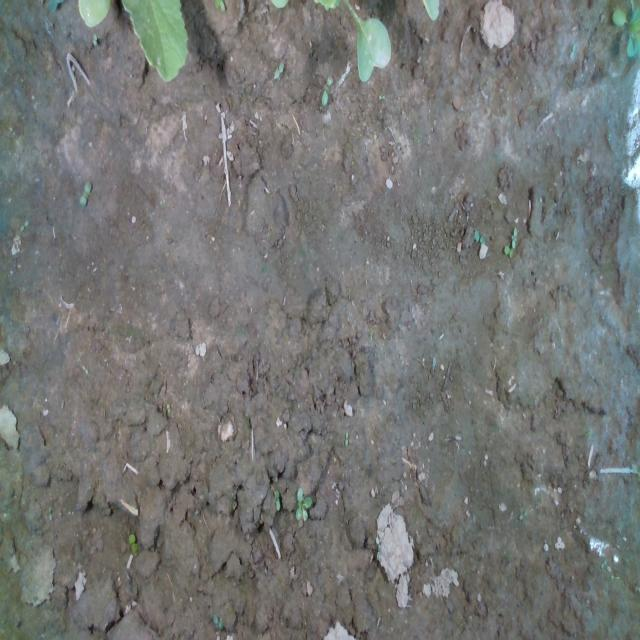weed: (296, 484, 310, 521), (76, 175, 88, 208), (472, 226, 488, 248), (568, 39, 578, 63), (273, 487, 282, 511), (517, 504, 527, 522)
